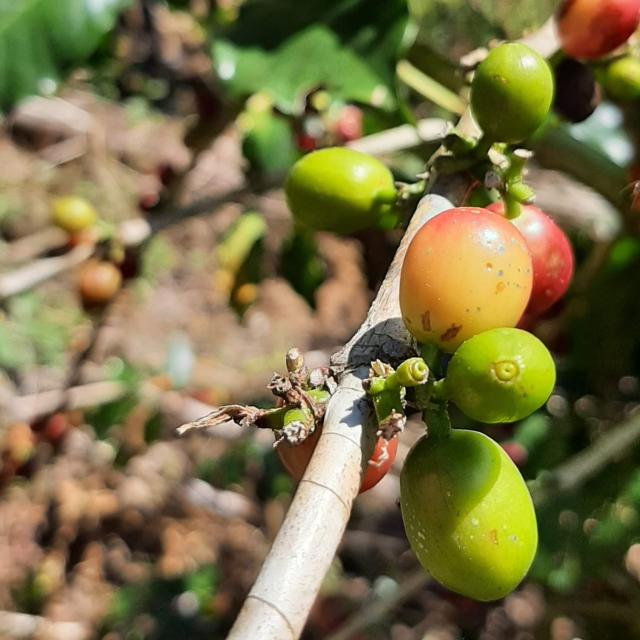green: (401, 430, 539, 602), (444, 328, 557, 424), (285, 147, 397, 233), (471, 42, 554, 142), (606, 56, 640, 101)
yellow: (400, 207, 534, 353), (511, 204, 575, 331), (558, 0, 640, 59), (359, 435, 399, 494)
